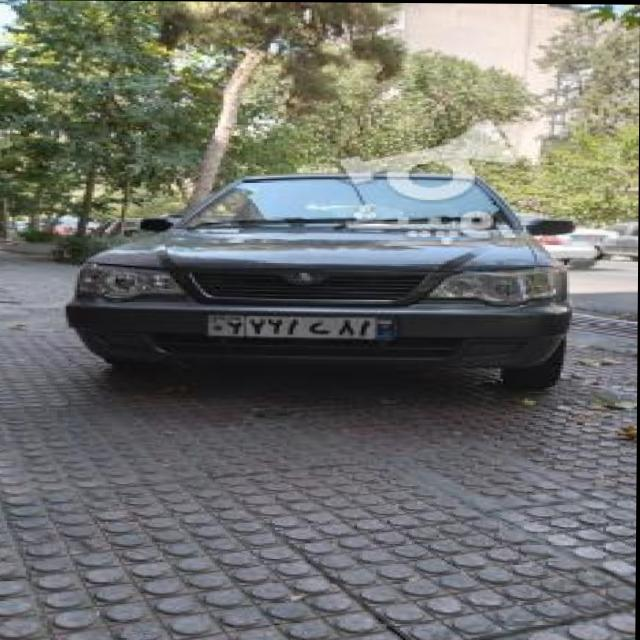licence: (214, 312, 406, 338)
